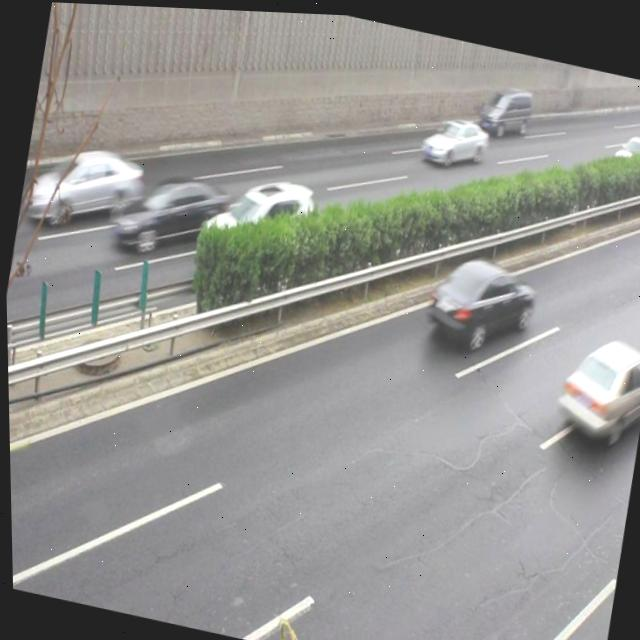car: (193, 159, 318, 275), (23, 134, 146, 239), (422, 246, 539, 353), (109, 161, 231, 261), (550, 320, 640, 438), (416, 108, 488, 171)
truck: (476, 76, 535, 139)
